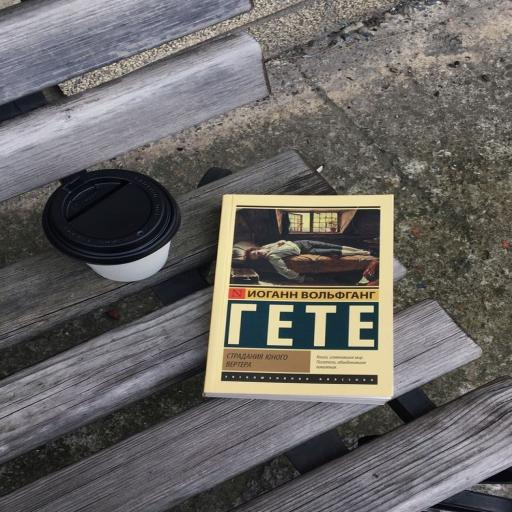bed: (205, 195, 393, 403)
trash_bin: (0, 152, 334, 348)
